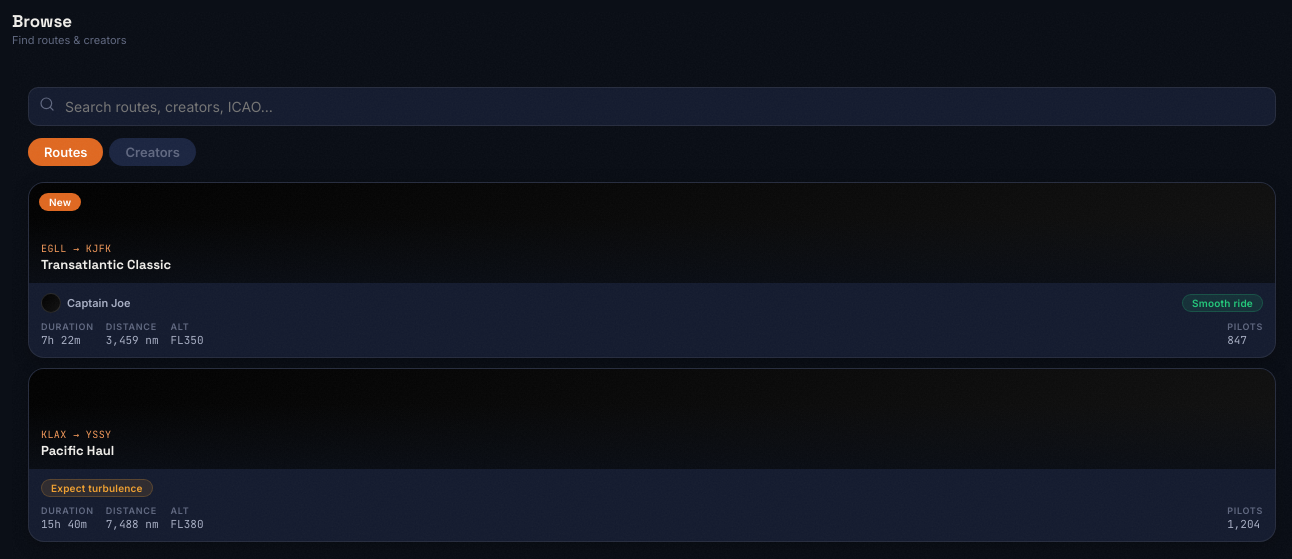
Test case: BrowseScreen › filters routes by debounced search query
expect the text "Transatlantic Classic" is shown: met, box left=41, top=256, right=171, bottom=273
Type "Pacific" into the field with placeholder "Search routes, creators, ICAO…". click: [652, 106]
box: left=28, top=87, right=1276, bottom=126
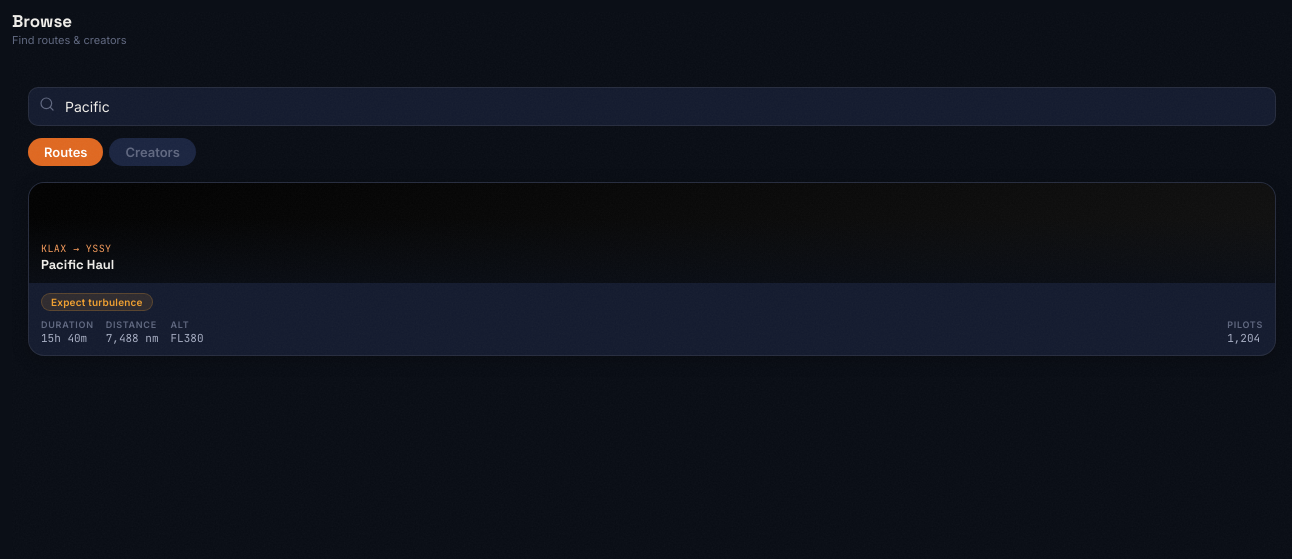
expect the text "Pacific Haul" is shown: met, box left=41, top=256, right=114, bottom=273
expect the button "Transatlantic Classic" is gone: met
